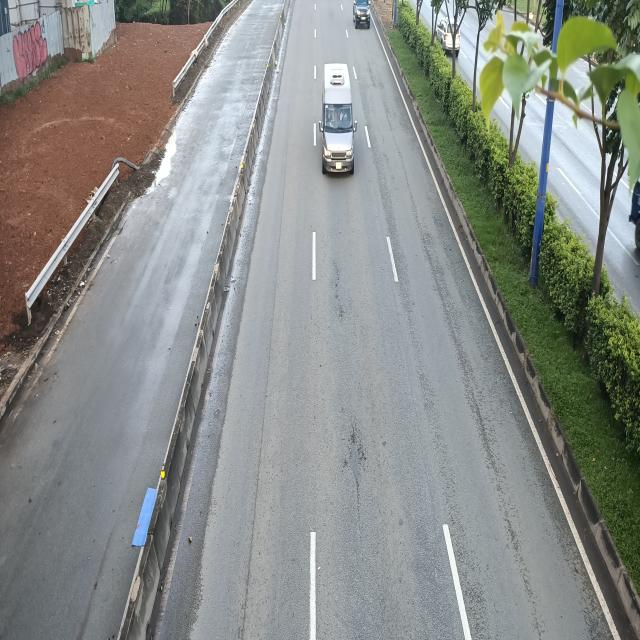van: (318, 60, 357, 177)
